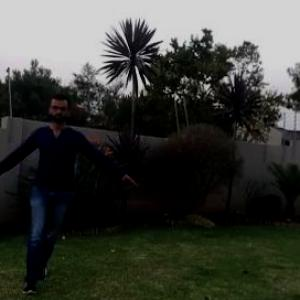land: (0, 97, 137, 266)
